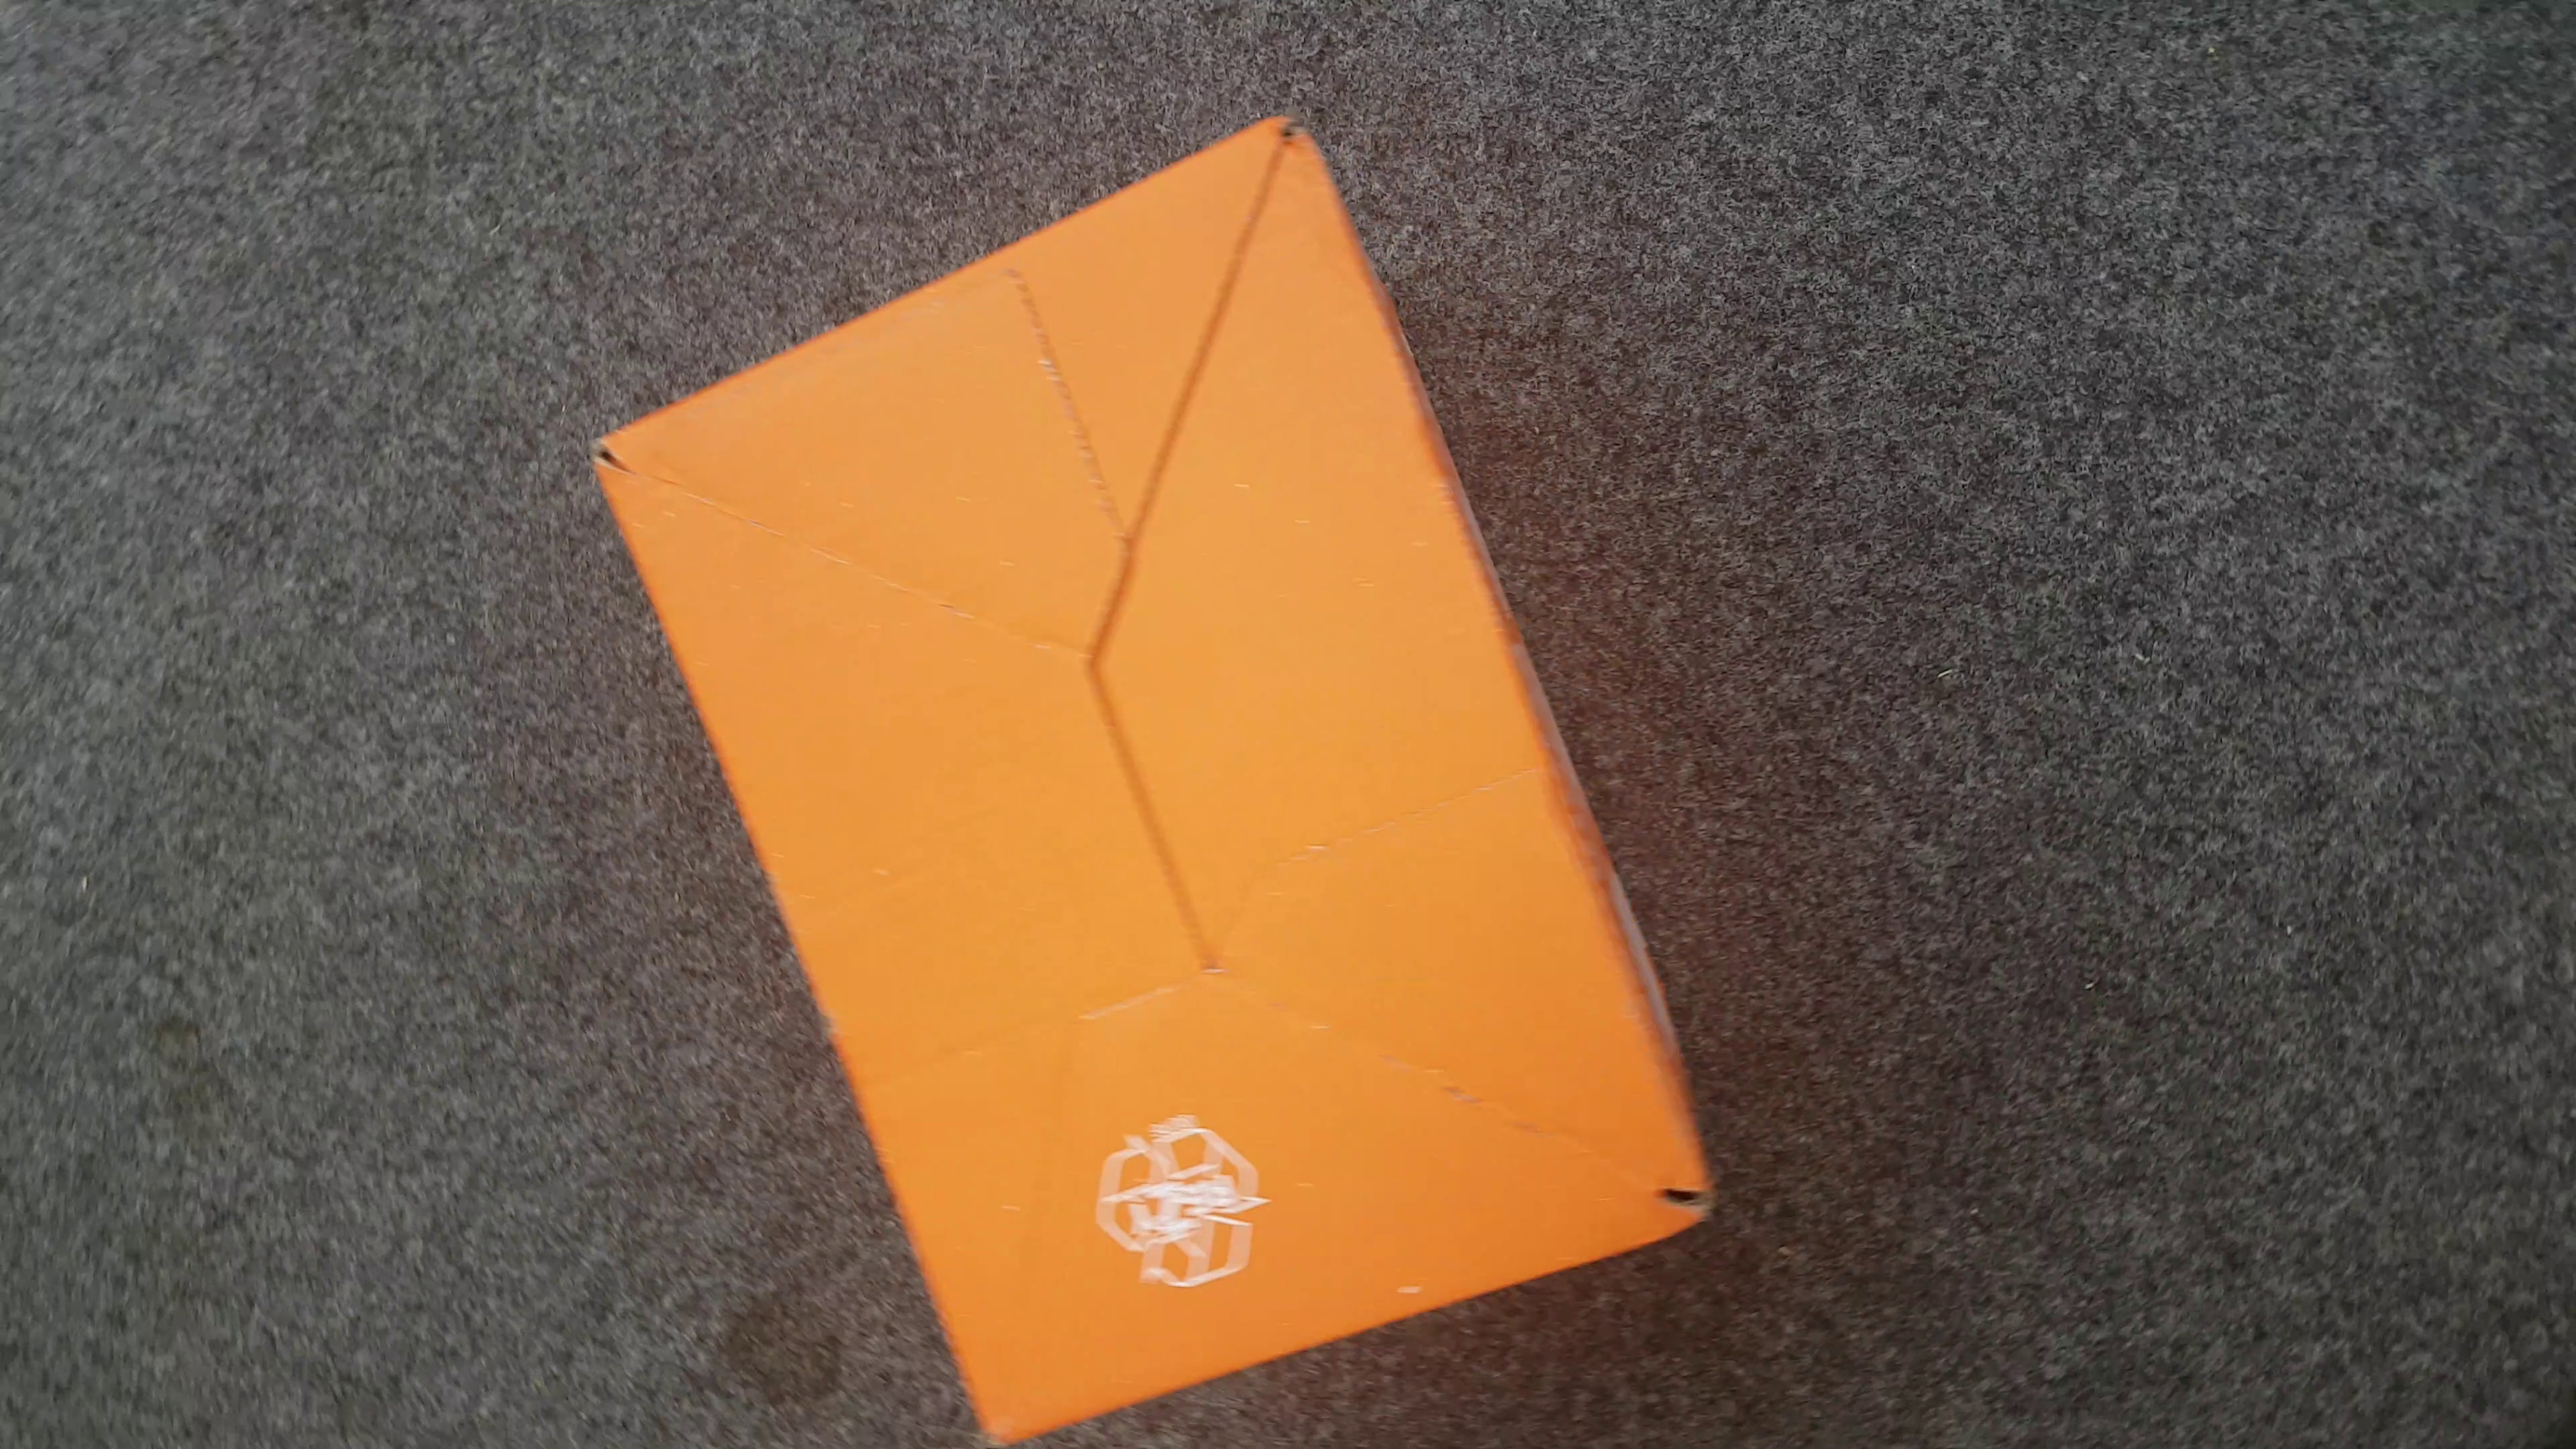push: (589, 120, 1727, 1435)
